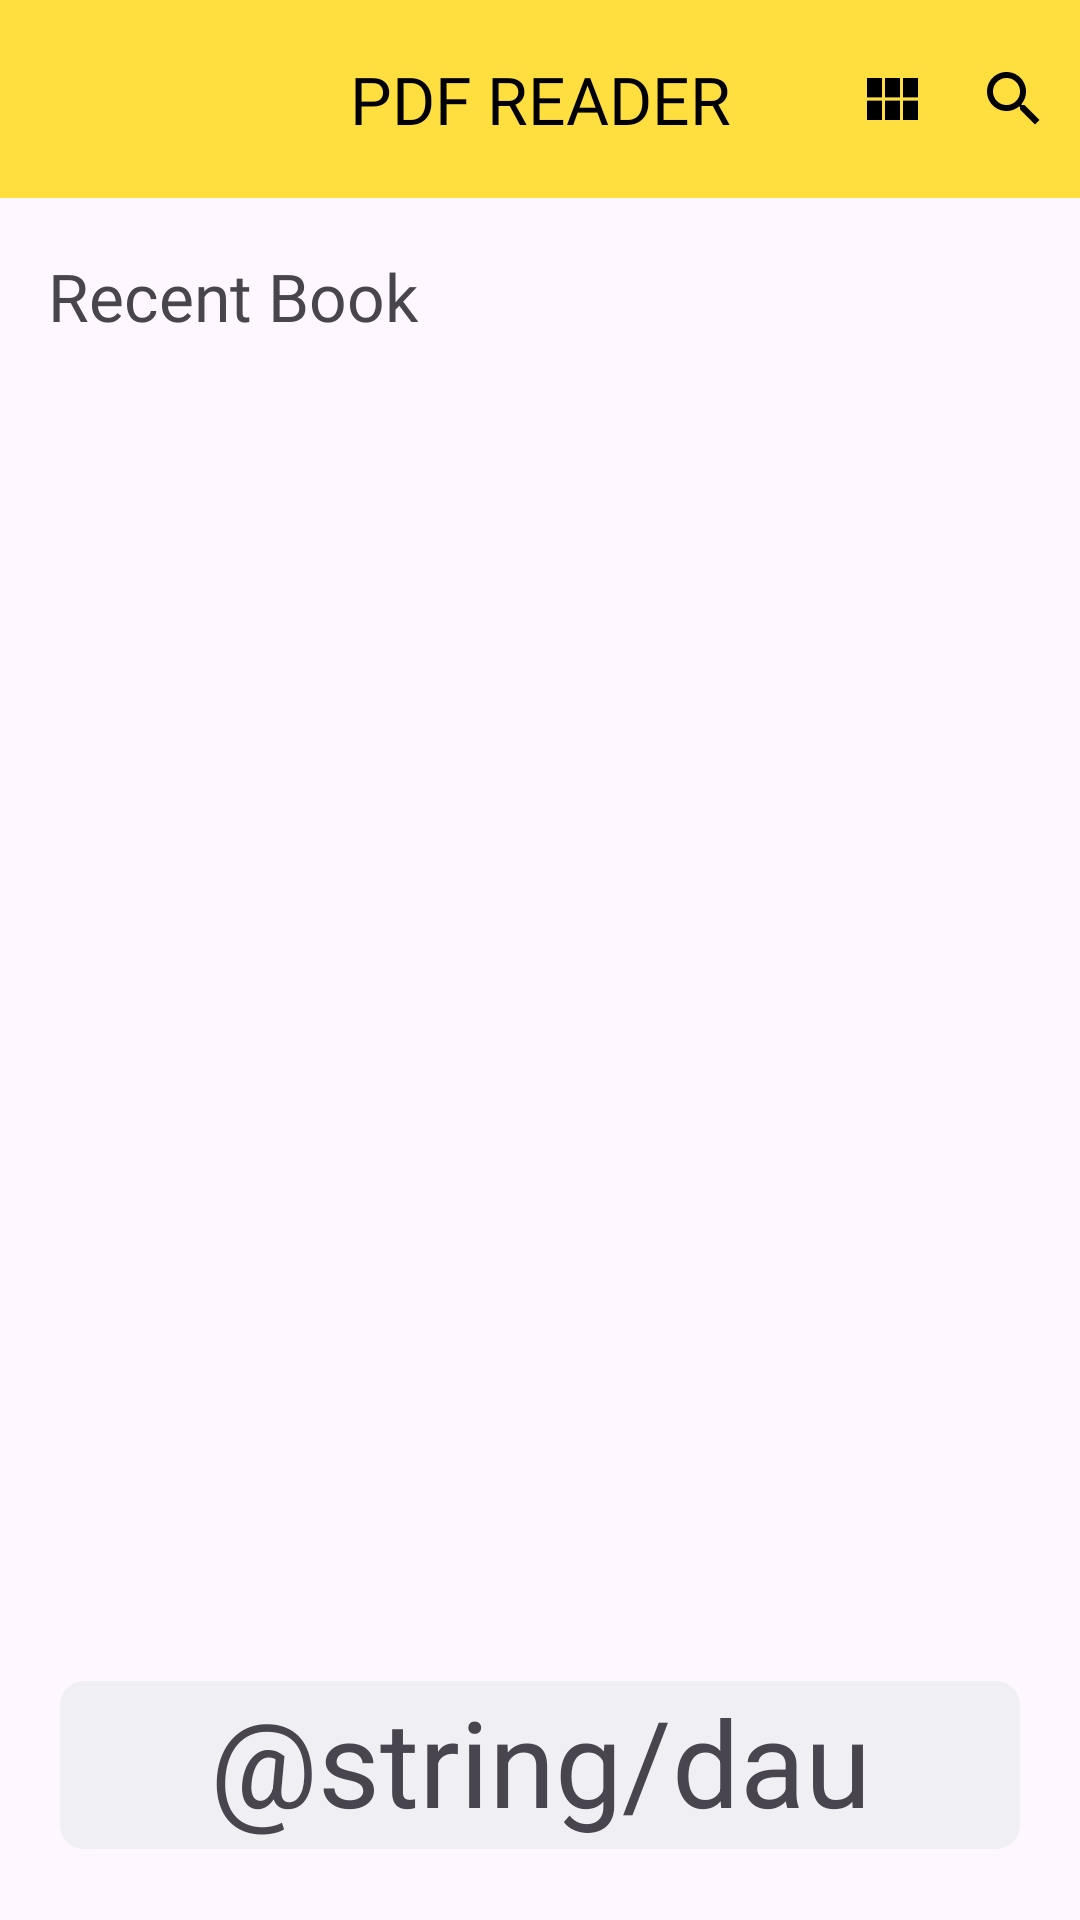

Screen size 1080px x 1920px. Icon name, then its box in pixels as detection(x1, y1, x2, y2):
Tìm kiếm: detection(987, 72, 1040, 125)
